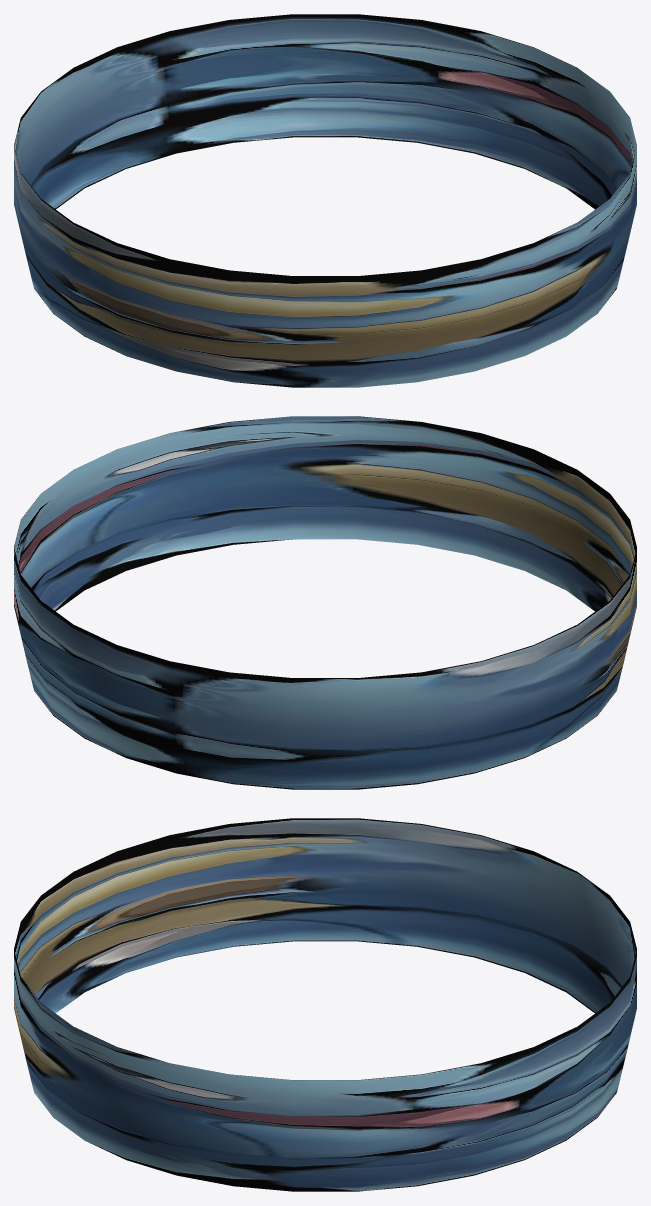
The model's file is 0110_NiDuoHou_SkillB_01.glb.
The picture shows the model from 3 angles, top to bottom: view 1: azimuth 30°, elevation 25°; view 2: azimuth 150°, elevation 25°; view 3: azimuth 270°, elevation 25°; orthographic projection.
Size of the model in its own units: 2.19 by 0.4574 by 2.2.
1 material, 1 textured.
